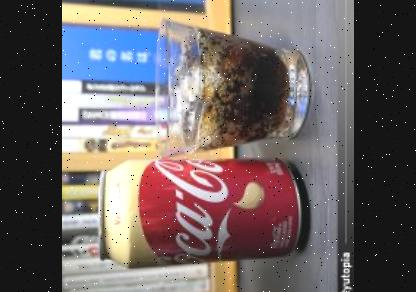Can: (98, 155, 306, 268)
